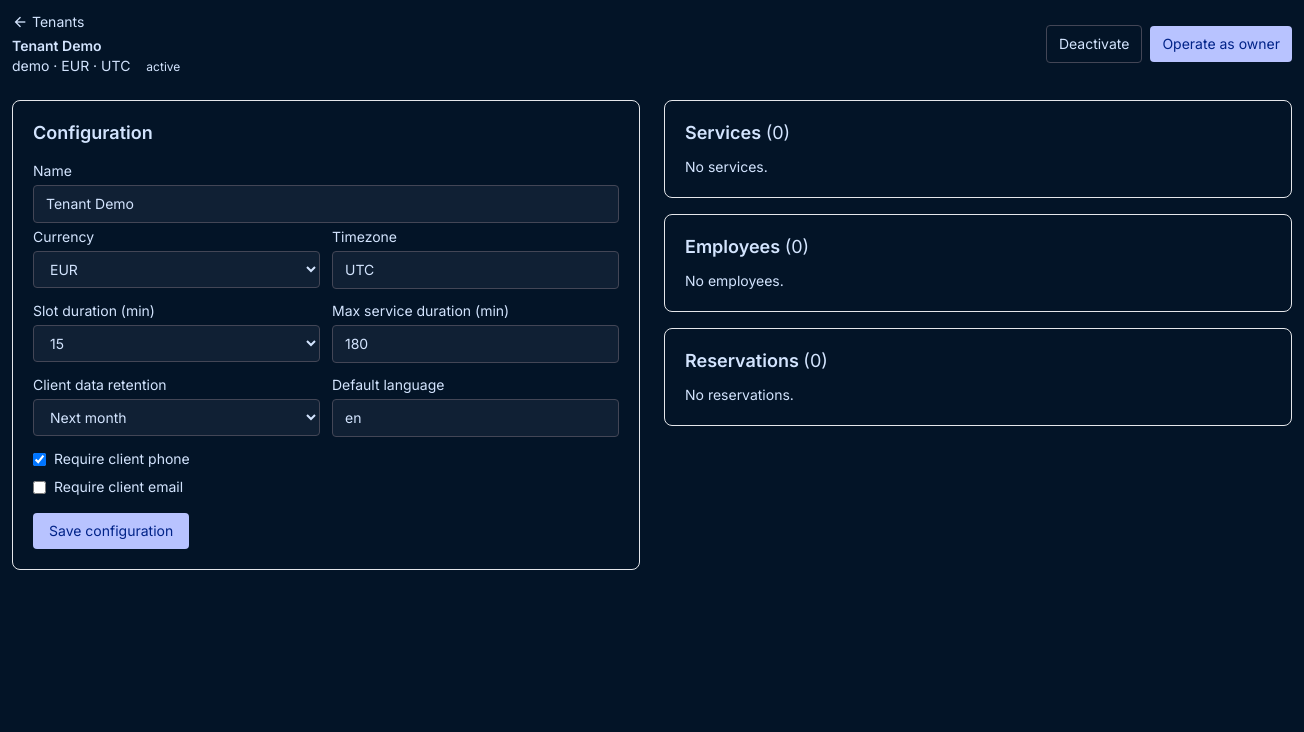
Test: AdminTenantDetail (F4.0) › valida maxServiceDuration múltiplo del slot antes del PUT
The image size is (1304, 732).
Expected: the field showing "Tenant Demo" is shown, [33,185,619,223]
Replace the text in the number field labelled "Max service duration (min)" with "200" at [476, 344], box [332,325,619,363]
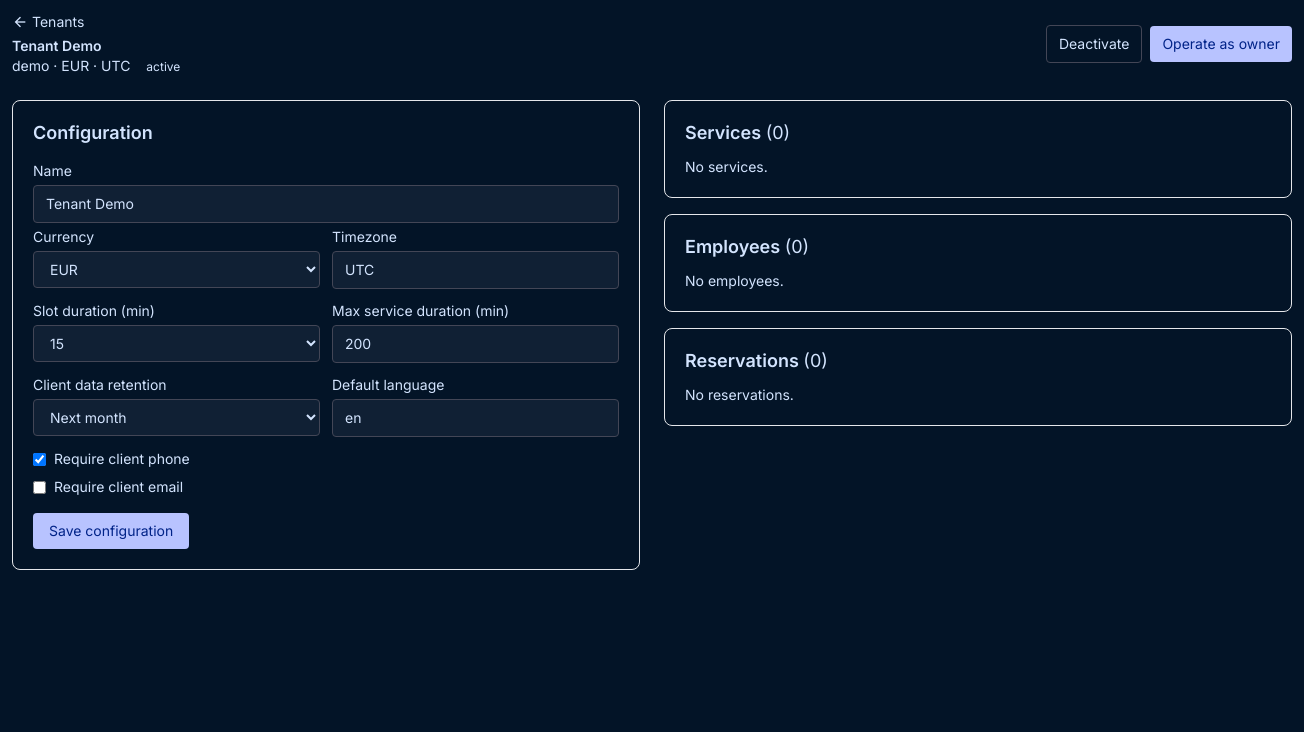
Submit the form, box [12,100,640,570]
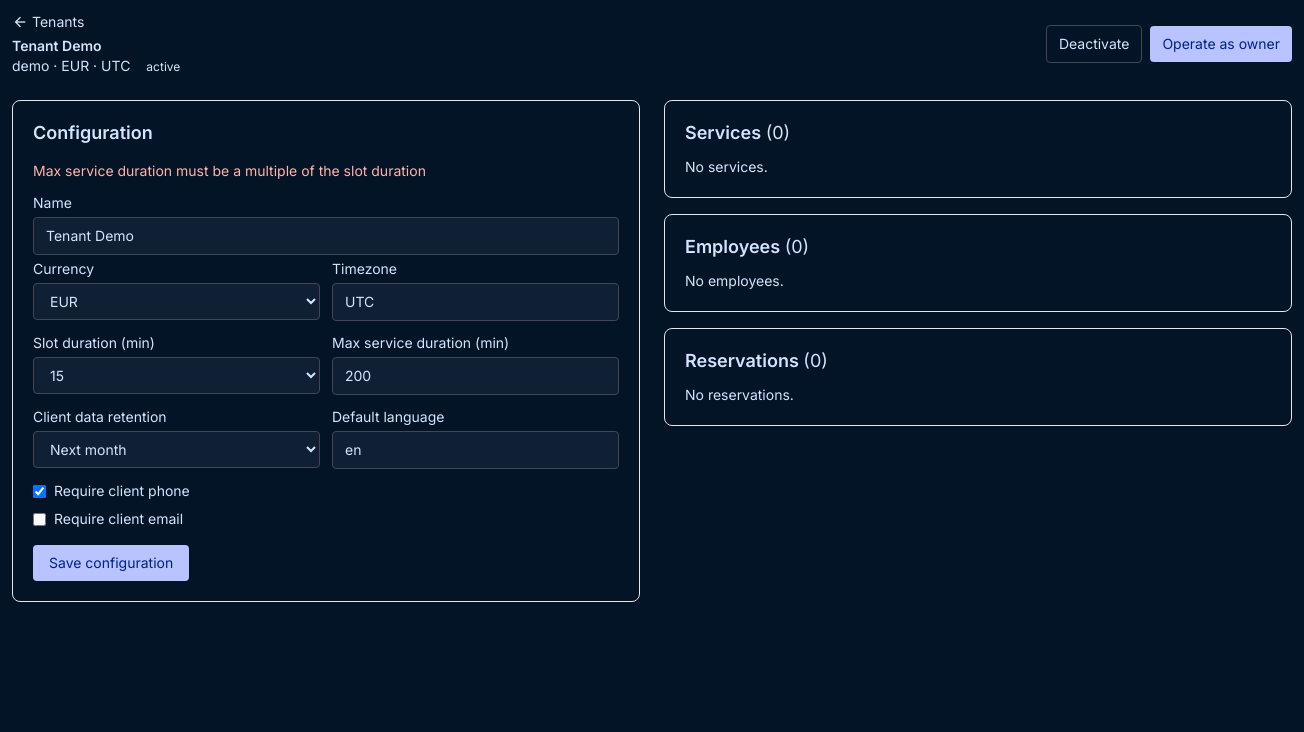
Expected: the text "Max service duration must be a multiple of the slot duration" is shown, [33,162,426,179]
